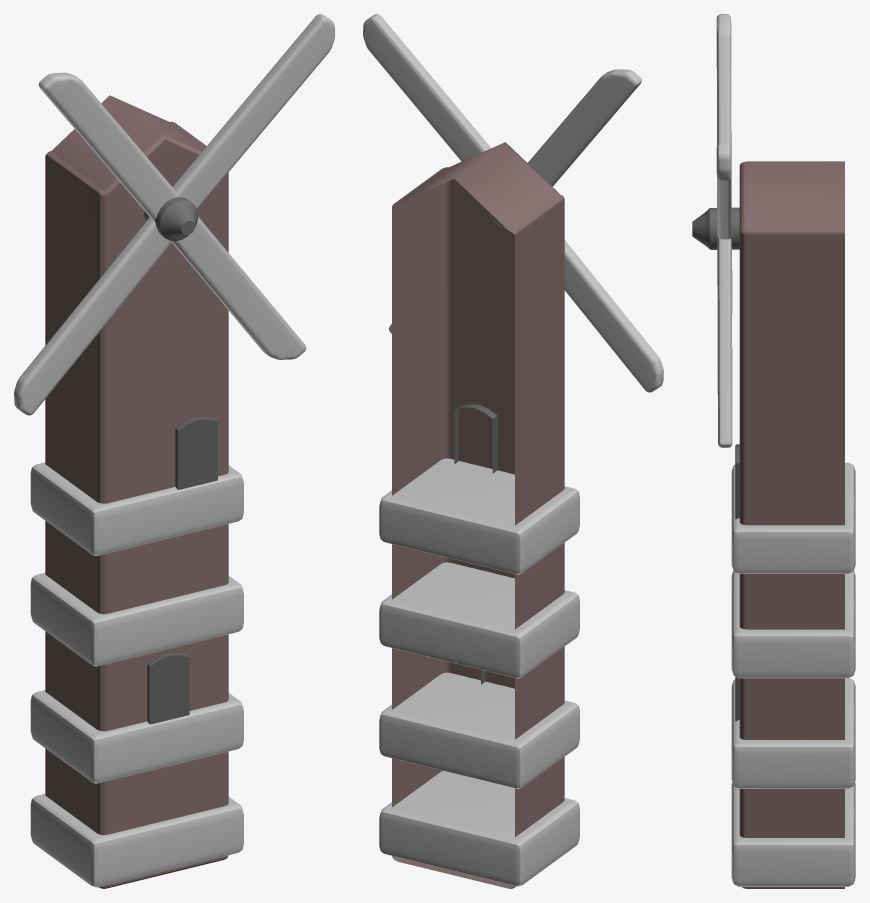
3 renders of one model, left to right at view 1: azimuth 30°, elevation 25°; view 2: azimuth 150°, elevation 25°; view 3: azimuth 270°, elevation 25°, orthographic. The views are drawn at different scales.
Visible parts, largest first — view 1: polySurface86; view 2: polySurface86; view 3: polySurface86.
Part boxes in pixels (bbox=[...]): polySurface86: bbox=[14, 14, 334, 888]; polySurface86: bbox=[363, 14, 663, 888]; polySurface86: bbox=[692, 14, 855, 888].
Size of the model in its own units: 42.77 by 108 by 20.27.
